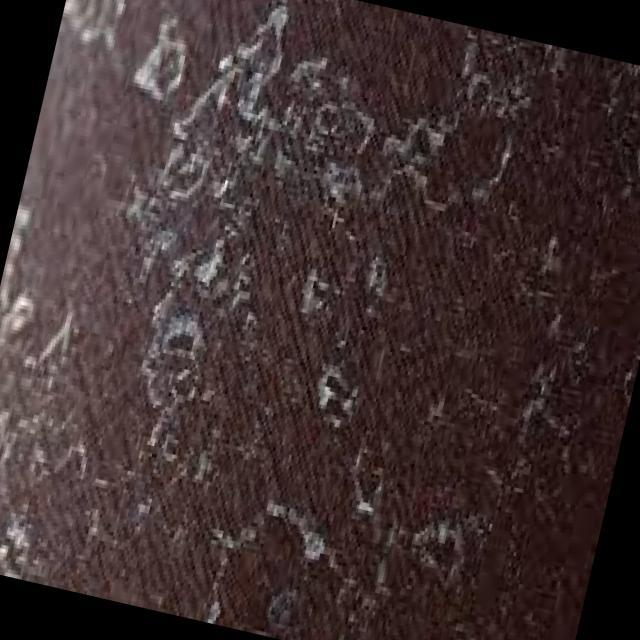Eczema: (60, 24, 640, 640)
